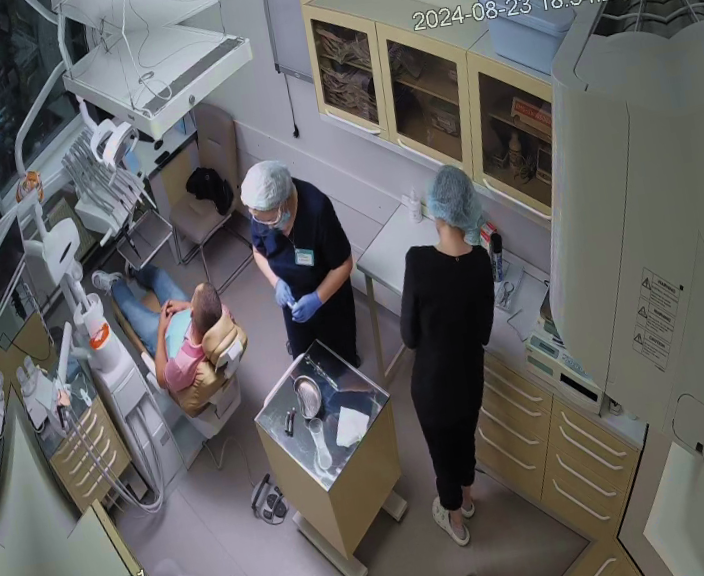Patient: (87, 246, 264, 452)
